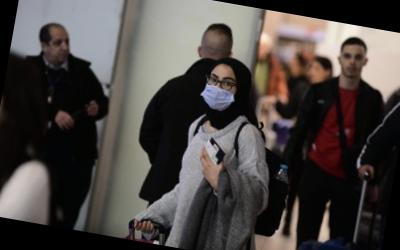with_mask: (197, 71, 239, 112)
without_mask: (46, 33, 73, 64), (340, 49, 367, 79)
